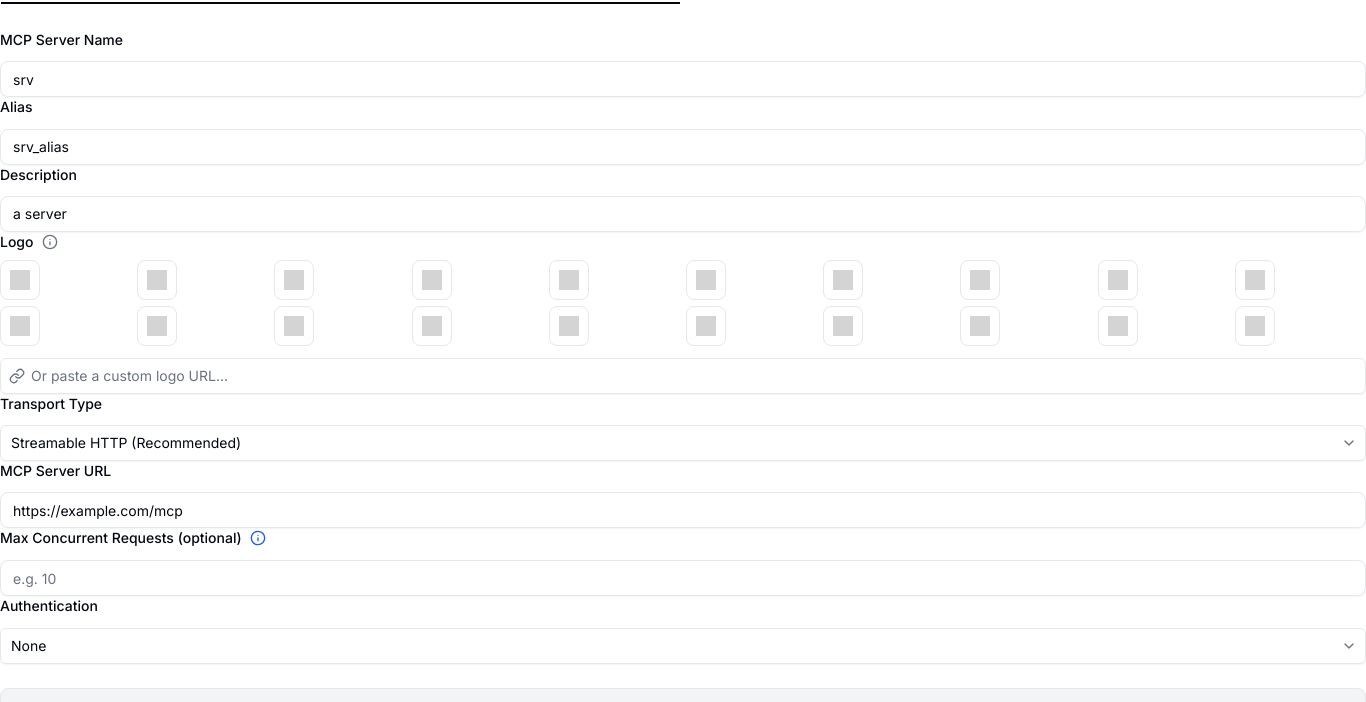
Scenario: MCPServerEdit live tool preview › coalesces URL edits and ignores an older failed preview after the latest preview succeeds
Replace the text in the field labelled "MCP Server URL" with "https://first.example/mcp" at (683,510), box [0,492,1365,528]
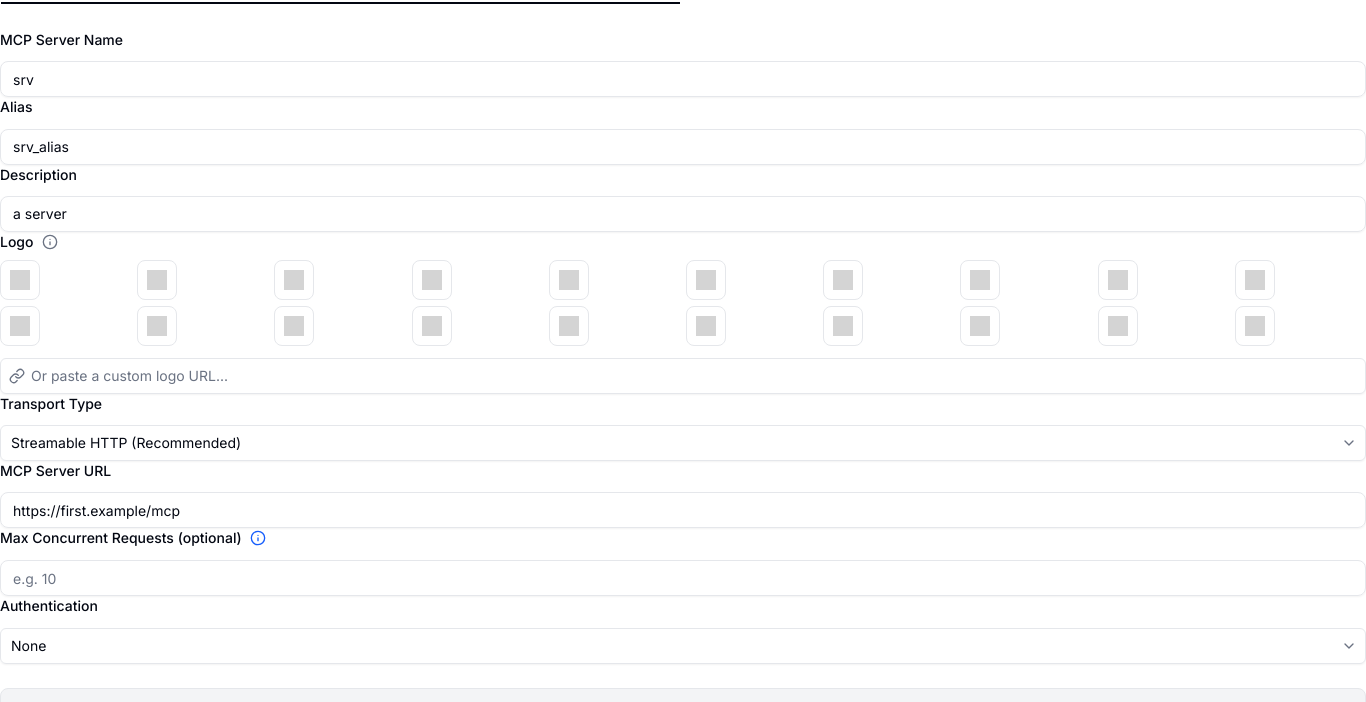
Replace the text in the field labelled "MCP Server URL" with "https://latest.example/mcp" at (683,510), box [0,492,1365,528]
(page scrolled)
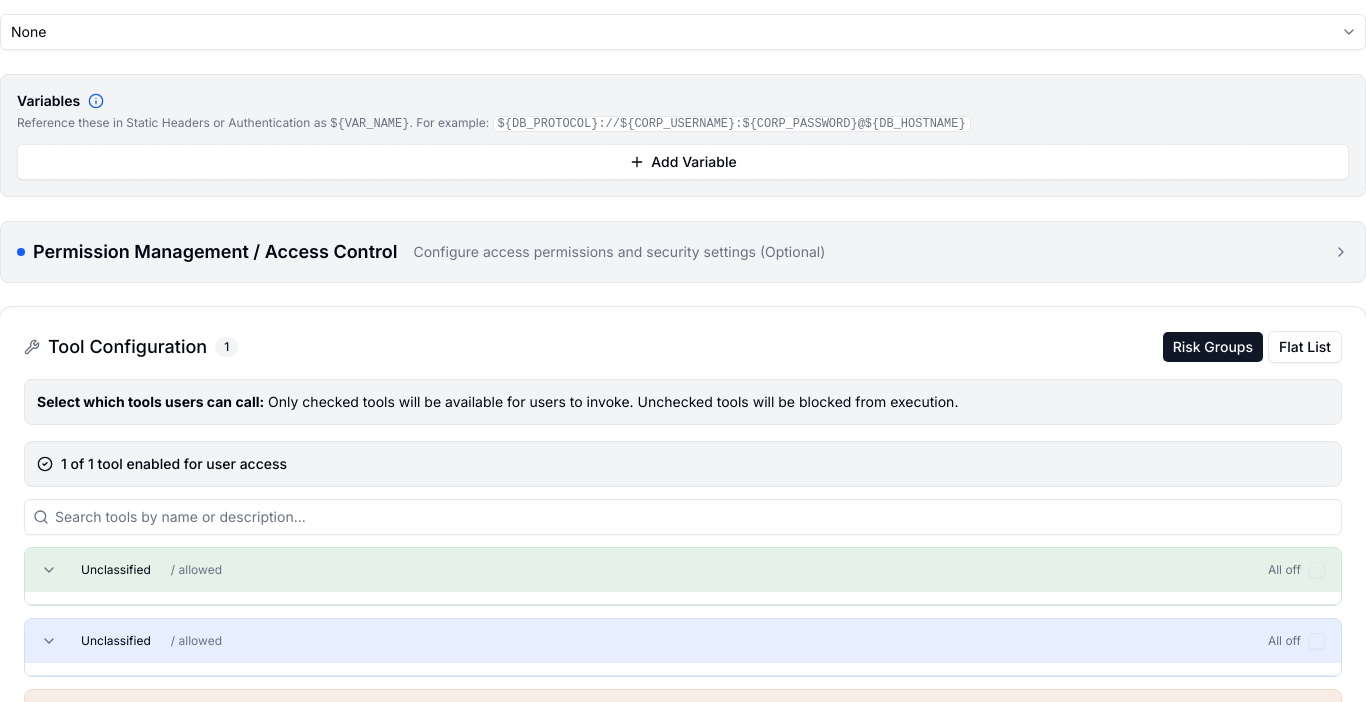
Click the button "Flat List" at (1305,346), box [1268,330,1342,362]
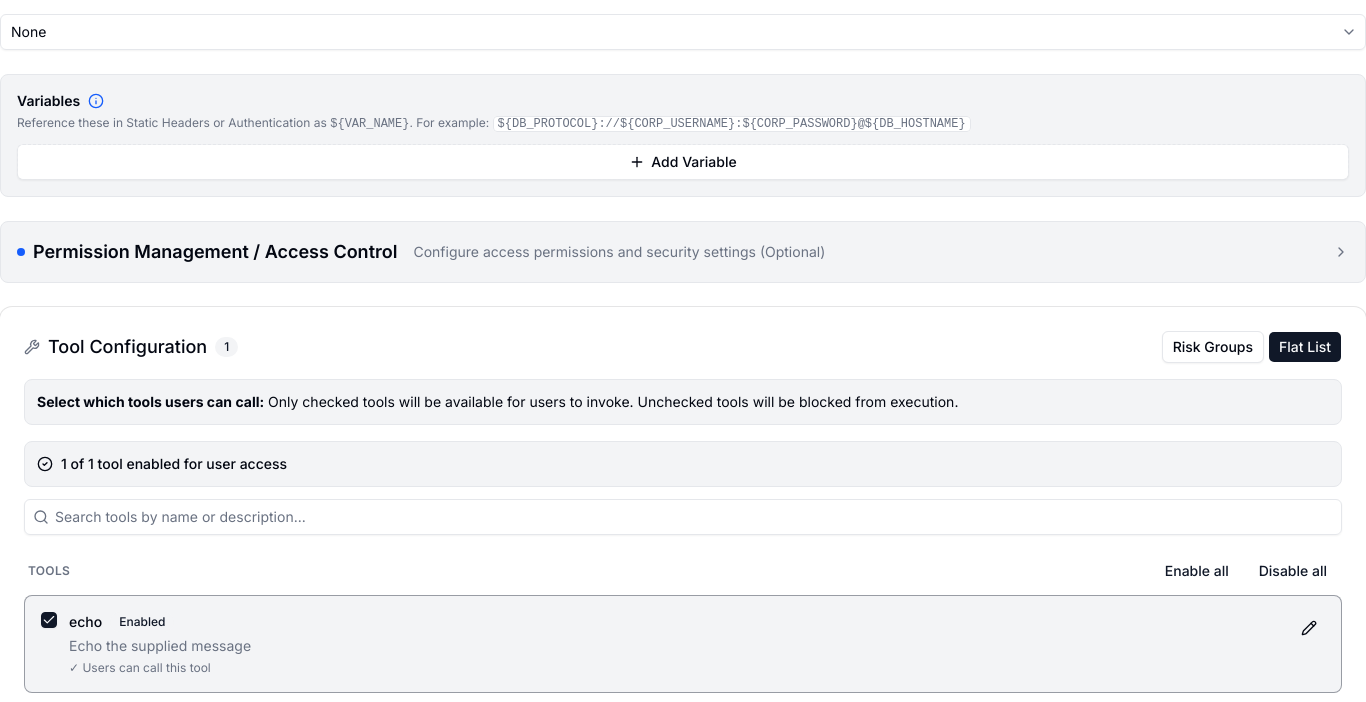
Now the text "echo" is shown, box [69,612,102,632]
